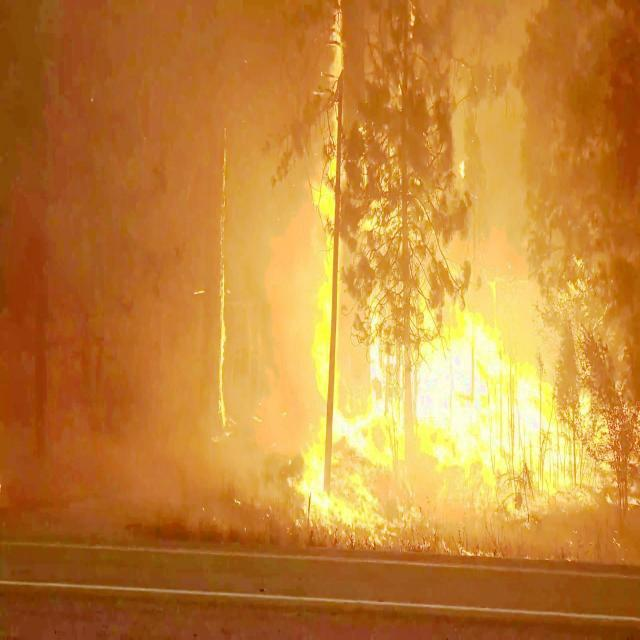Fire: (300, 0, 422, 553), (408, 270, 640, 538), (214, 121, 230, 440)
Smoke: (2, 0, 210, 542), (430, 2, 640, 268), (234, 0, 292, 541)
